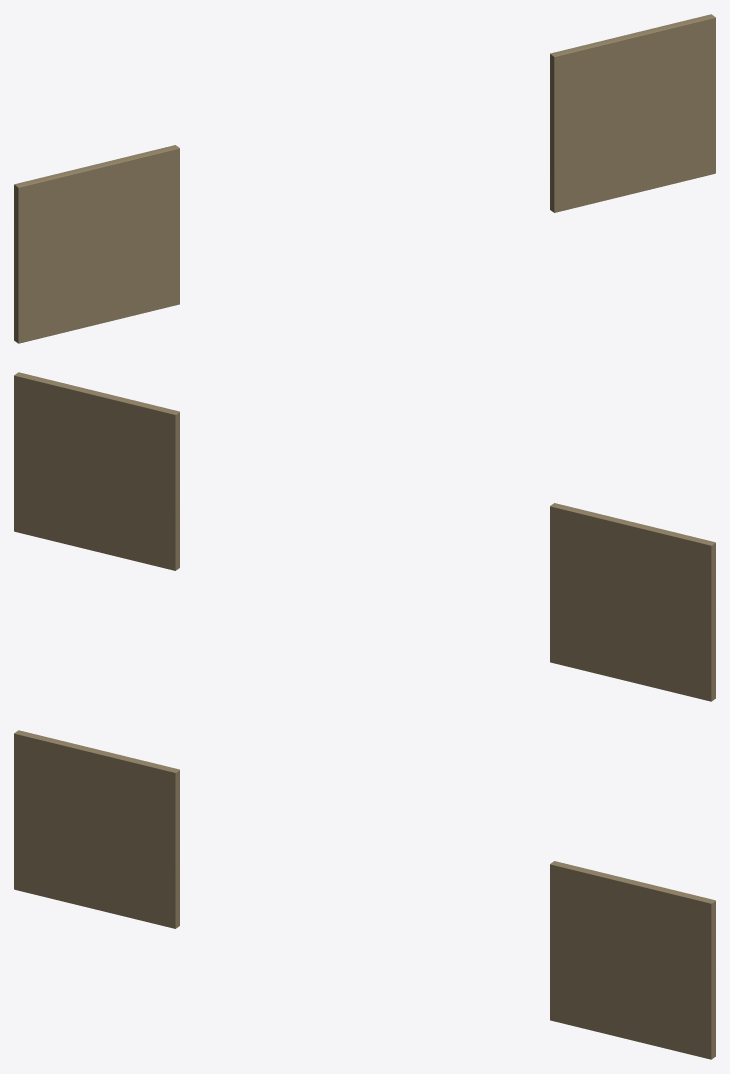
Rendered from Repair_RoomDividers62.fbx.
The picture shows the model from 3 angles, top to bottom: view 1: azimuth 30°, elevation 25°; view 2: azimuth 150°, elevation 25°; view 3: azimuth 330°, elevation 25°; orthographic projection.
Visible parts, largest first — view 1: Repair_RoomDividers62; view 2: Repair_RoomDividers62; view 3: Repair_RoomDividers62.
Boxes of the visible parts, x1,y1,x2,y2 form: Repair_RoomDividers62: [14, 14, 715, 343]; Repair_RoomDividers62: [14, 372, 715, 701]; Repair_RoomDividers62: [14, 730, 715, 1059].
Bounding box in the file's own units: 1400 × 300 × 16.
